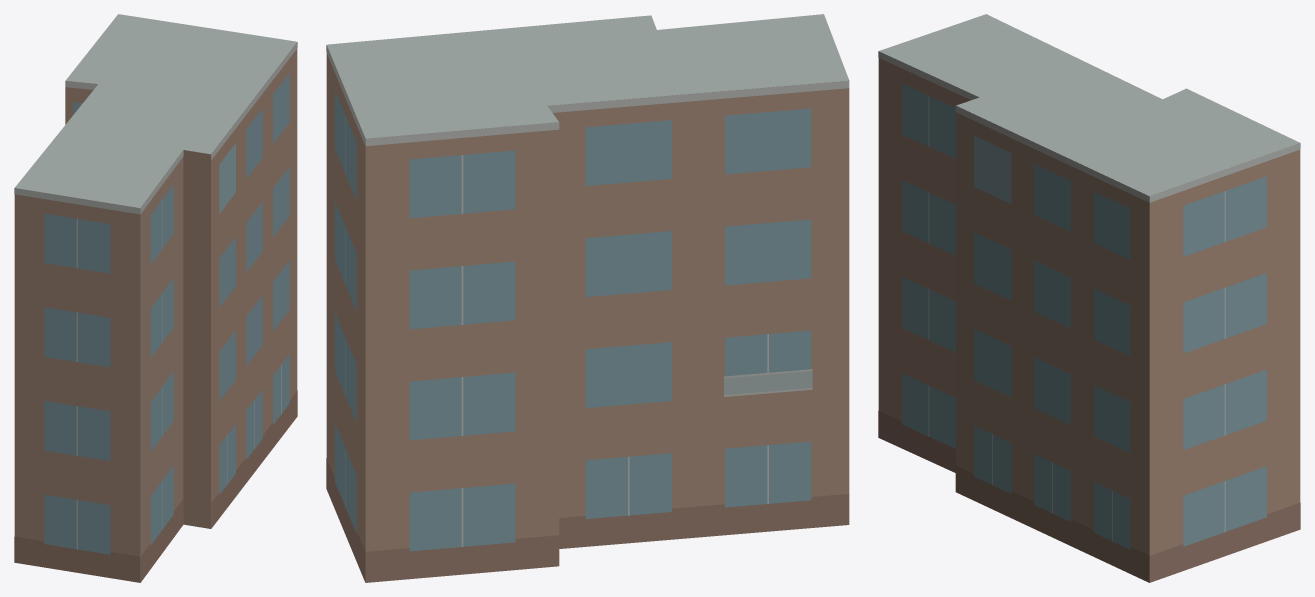
File: survey-upis-32846148.glb
The picture shows the model from 3 angles, left to right: view 1: azimuth 30°, elevation 25°; view 2: azimuth 150°, elevation 25°; view 3: azimuth 270°, elevation 25°; orthographic projection. The views are drawn at different scales.
Parts seen in each view (by area): view 1: survey-upis-32846148.tmp; view 2: survey-upis-32846148.tmp; view 3: survey-upis-32846148.tmp.
Boxes of the visible parts, x1=… form: survey-upis-32846148.tmp: x1=14, y1=14, x2=297, y2=582; survey-upis-32846148.tmp: x1=326, y1=14, x2=849, y2=582; survey-upis-32846148.tmp: x1=878, y1=14, x2=1300, y2=582.
Size of the model in its own units: 14.57 by 14.4 by 14.25.
